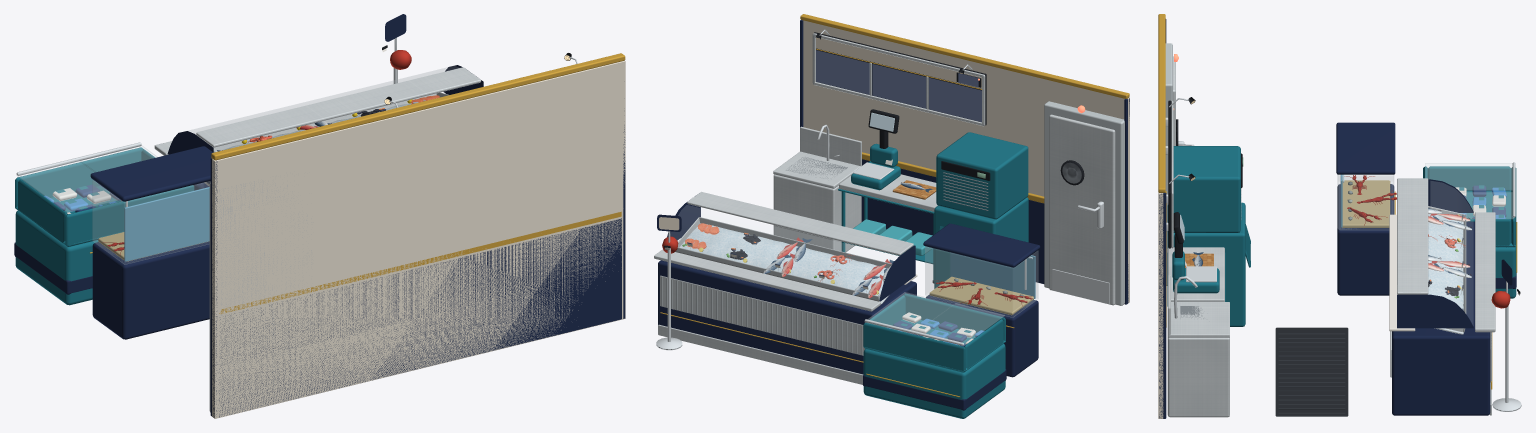
The model's file is sector-peixaria_T3.fbx.
3 views of the same model, side by side, from view 1: azimuth 30°, elevation 25°; view 2: azimuth 150°, elevation 25°; view 3: azimuth 270°, elevation 25° (orthographic). The views are drawn at different scales.
Parts seen in each view (by area): view 1: Back Wall, Body, Wall Dressing; view 2: Body, Wall Dressing, Back Wall; view 3: Body, Back Wall, Wall Dressing.
Boxes of the visible parts, <box> form: Back Wall: <box>210,53,625,418</box>; Body: <box>14,14,483,339</box>; Wall Dressing: <box>209,53,577,412</box>; Body: <box>654,109,1040,418</box>; Wall Dressing: <box>812,29,1124,305</box>; Back Wall: <box>800,14,1129,304</box>; Body: <box>1167,122,1521,417</box>; Back Wall: <box>1158,14,1166,418</box>; Wall Dressing: <box>1165,43,1195,285</box>.
Size of the model in its own units: 4 by 2.45 by 3.5.
